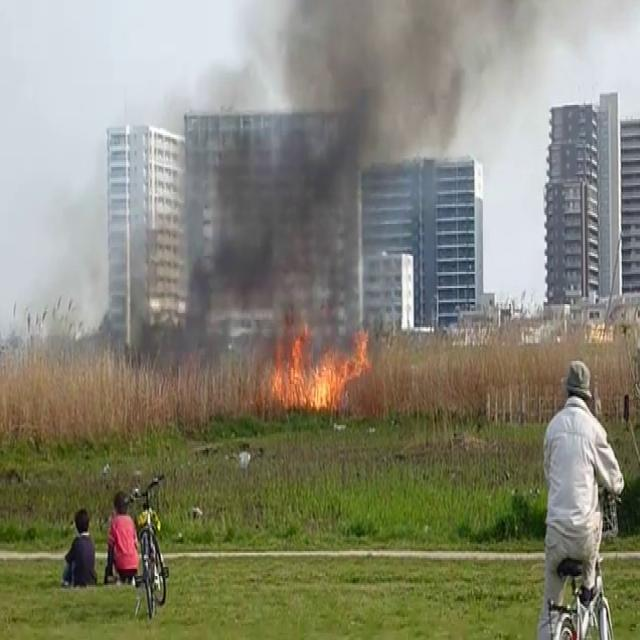Fire: (265, 321, 370, 417)
Smoke: (169, 0, 458, 356)
